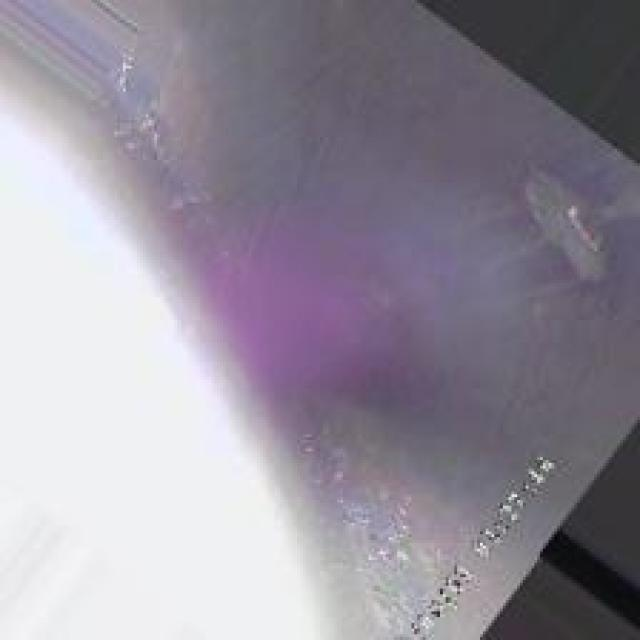ferrule: (517, 172, 614, 277)
